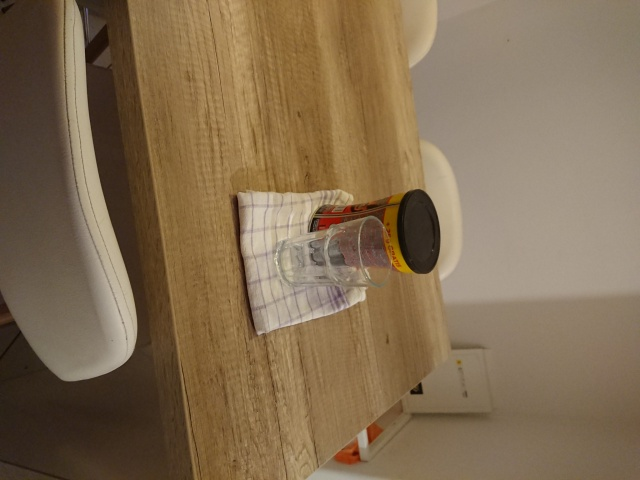Nescafe Classic 225g: (306, 186, 444, 277)
